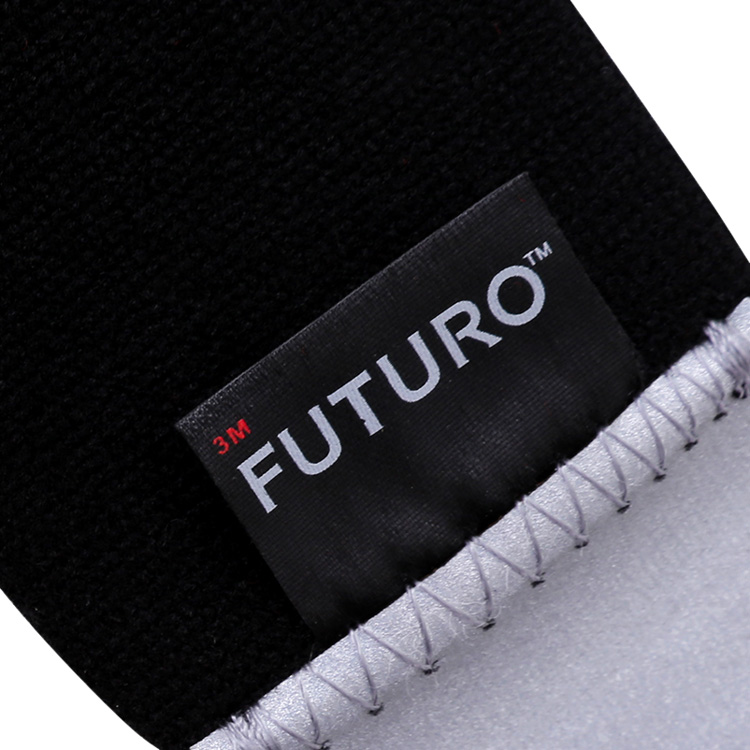3M: (206, 414, 259, 456)
